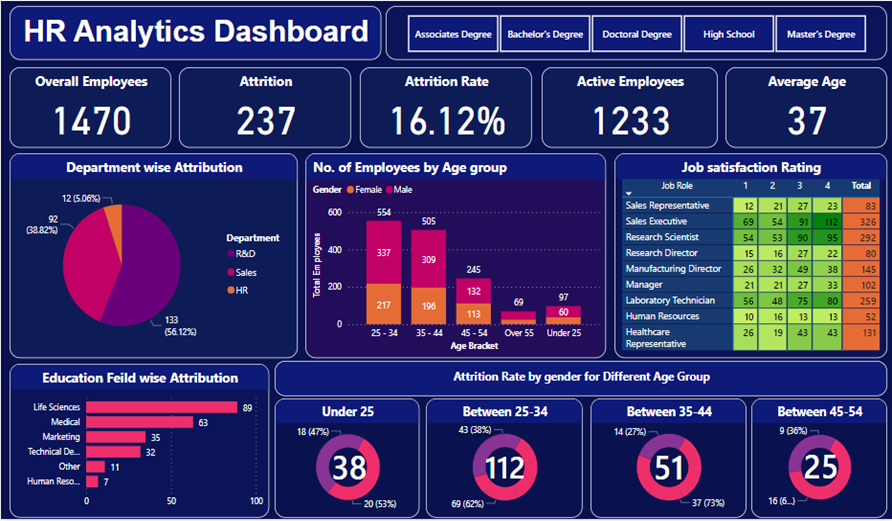

This screenshot's page, from the dashboard's own definition file:
{"tool":"powerbi","page":{"name":"Page 1","canvas":[1280,720],"ordinal":0},"visuals":[{"type":"card","title":"Overall Employees","fields":{"Values":["Sum(HR data.Employee Count)"]},"box":[11.9,91.5,232.2,111.9],"z":0},{"type":"card","title":"Attrition","fields":{"Values":["Sum(HR data.Attribution count)"]},"box":[255.9,91.5,247.5,111.9],"z":1000},{"type":"card","title":"Attrition Rate","fields":{"Values":["HR data.Attrition Rate"]},"box":[515.3,91.5,247.5,111.9],"z":2000},{"type":"card","title":"Active Employees","fields":{"Values":["HR data.Active Employees"]},"box":[776.3,91.5,252.5,111.9],"z":3000},{"type":"card","title":"Average Age","fields":{"Values":["Avg(HR data.Age)"]},"box":[1040.7,91.5,232.2,111.9],"z":4000},{"type":"pieChart","title":"Department wise Attribution","fields":{"Category":["HR data.Department"],"Y":["Sum(HR data.Attribution count)"]},"box":[11.9,211.9,413.6,284.7],"z":5000},{"type":"columnChart","title":"No. of Employees by Age group","fields":{"Category":["HR data.CF_age band"],"Y":["Sum(HR data.Employee Count)"],"Series":["HR data.Gender"]},"box":[437.3,211.9,432.2,284.7],"z":6000},{"type":"pivotTable","title":"Job satisfaction Rating","fields":{"Rows":["HR data.Job Role"],"Columns":["HR data.Job Satisfaction"],"Values":["Sum(HR data.Employee Count)"]},"box":[881.4,211.9,391.5,284.7],"z":7000},{"type":"barChart","title":"Education Feild wise Attribution","fields":{"Category":["HR data.Education Field"],"Y":["Sum(HR data.Attribution count)"]},"box":[11.9,505.1,372.9,213.6],"z":8000},{"type":"donutChart","title":"Under 25","fields":{"Category":["HR data.Gender"],"Y":["Sum(HR data.Attribution count)"],"Series":["HR data.CF_age band"]},"box":[393.2,552.5,208.5,166.1],"z":9000},{"type":"donutChart","title":"Between 25-34","fields":{"Category":["HR data.Gender"],"Y":["Sum(HR data.Attribution count)"],"Series":["HR data.CF_age band"]},"box":[610.2,552.5,225.4,166.1],"z":10000},{"type":"donutChart","title":"Between 35-44","fields":{"Category":["HR data.Gender"],"Y":["Sum(HR data.Attribution count)"],"Series":["HR data.CF_age band"]},"box":[847.5,552.5,223.7,166.1],"z":11000},{"type":"donutChart","title":"Between 45-54","fields":{"Category":["HR data.Gender"],"Y":["Sum(HR data.Attribution count)"],"Series":["HR data.CF_age band"]},"box":[1078,552.5,194.9,166.1],"z":12000},{"type":"card","fields":{"Values":["Sum(HR data.Attribution count)"]},"box":[457.6,627.1,84.7,61],"z":12001},{"type":"card","fields":{"Values":["Sum(HR data.Attribution count)"]},"box":[681.4,627.1,84.7,61],"z":12002},{"type":"card","fields":{"Values":["Sum(HR data.Attribution count)"]},"box":[916.9,627.1,84.7,61],"z":12003},{"type":"card","fields":{"Values":["Sum(HR data.Attribution count)"]},"box":[1135.6,625.4,84.7,61],"z":12004},{"type":"textbox","box":[11.9,6.8,533.9,74.6],"z":12005},{"type":"textbox","box":[393.2,500,879.7,49.2],"z":12006},{"type":"slicer","fields":{"Values":["HR data.Education"]},"box":[552.5,6.8,720.3,74.6],"z":12007}]}

Visuals, with their boxes in screenshot pixels (x1, y1, x2, y2):
"Overall Employees" card: l=0, t=68, r=165, b=147
"Attrition" card: l=173, t=68, r=349, b=147
"Attrition Rate" card: l=358, t=68, r=534, b=147
"Active Employees" card: l=544, t=68, r=724, b=147
"Average Age" card: l=732, t=68, r=891, b=147
"Department wise Attribution" pieChart: l=0, t=153, r=294, b=356
"No. of Employees by Age group" columnChart: l=302, t=153, r=610, b=356
"Job satisfaction Rating" pivotTable: l=619, t=153, r=891, b=356
"Education Feild wise Attribution" barChart: l=0, t=362, r=265, b=514
"Under 25" donutChart: l=271, t=396, r=419, b=514
"Between 25-34" donutChart: l=425, t=396, r=586, b=514
"Between 35-44" donutChart: l=595, t=396, r=754, b=514
"Between 45-54" donutChart: l=759, t=396, r=891, b=514
card - Sum(HR data.Attribution count): l=317, t=449, r=377, b=493
card - Sum(HR data.Attribution count): l=476, t=449, r=537, b=493
card - Sum(HR data.Attribution count): l=644, t=449, r=704, b=493
card - Sum(HR data.Attribution count): l=800, t=448, r=860, b=491
textbox: l=0, t=7, r=380, b=60
textbox: l=271, t=359, r=891, b=394
slicer - HR data.Education: l=384, t=7, r=891, b=60
